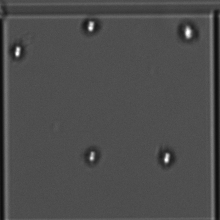Living Cell: (81, 141, 107, 170), (77, 13, 105, 39), (177, 16, 200, 45), (154, 145, 179, 168), (9, 38, 27, 62)
